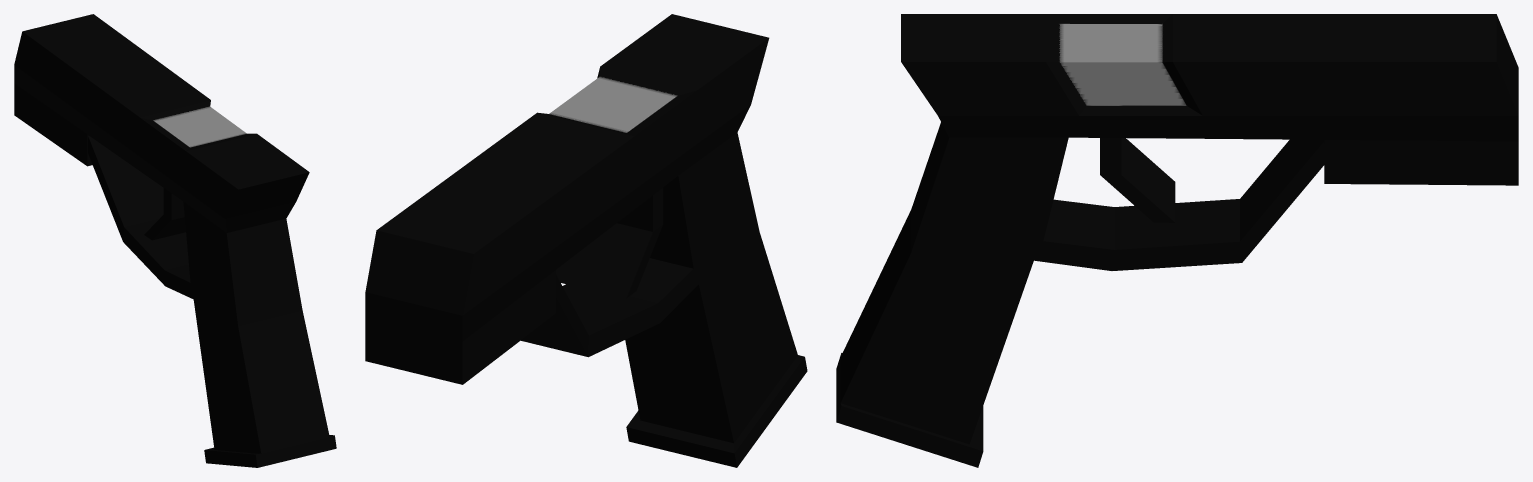
File: Pistol.fbx
3 renders of one model, left to right at view 1: azimuth 30°, elevation 25°; view 2: azimuth 150°, elevation 25°; view 3: azimuth 270°, elevation 25°, orthographic. The views are drawn at different scales.
Visible parts, largest first — view 1: Pistol2.001; view 2: Pistol2.001; view 3: Pistol2.001.
Boxes of the visible parts, x1=… form: Pistol2.001: x1=14, y1=14, x2=336, y2=467; Pistol2.001: x1=365, y1=14, x2=807, y2=467; Pistol2.001: x1=836, y1=14, x2=1518, y2=467.
Size of the model in its own units: 28.31 by 100 by 153.
Materials: 1 (1 with a texture image).
